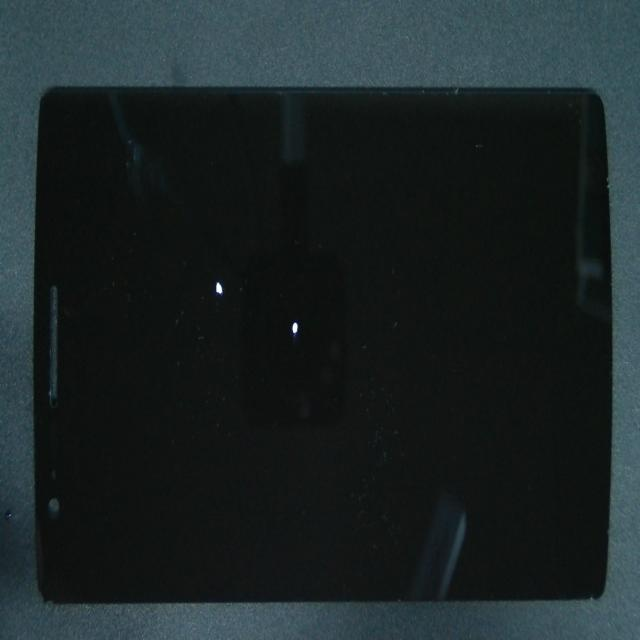stain: (148, 120, 428, 461), (119, 94, 319, 388)
